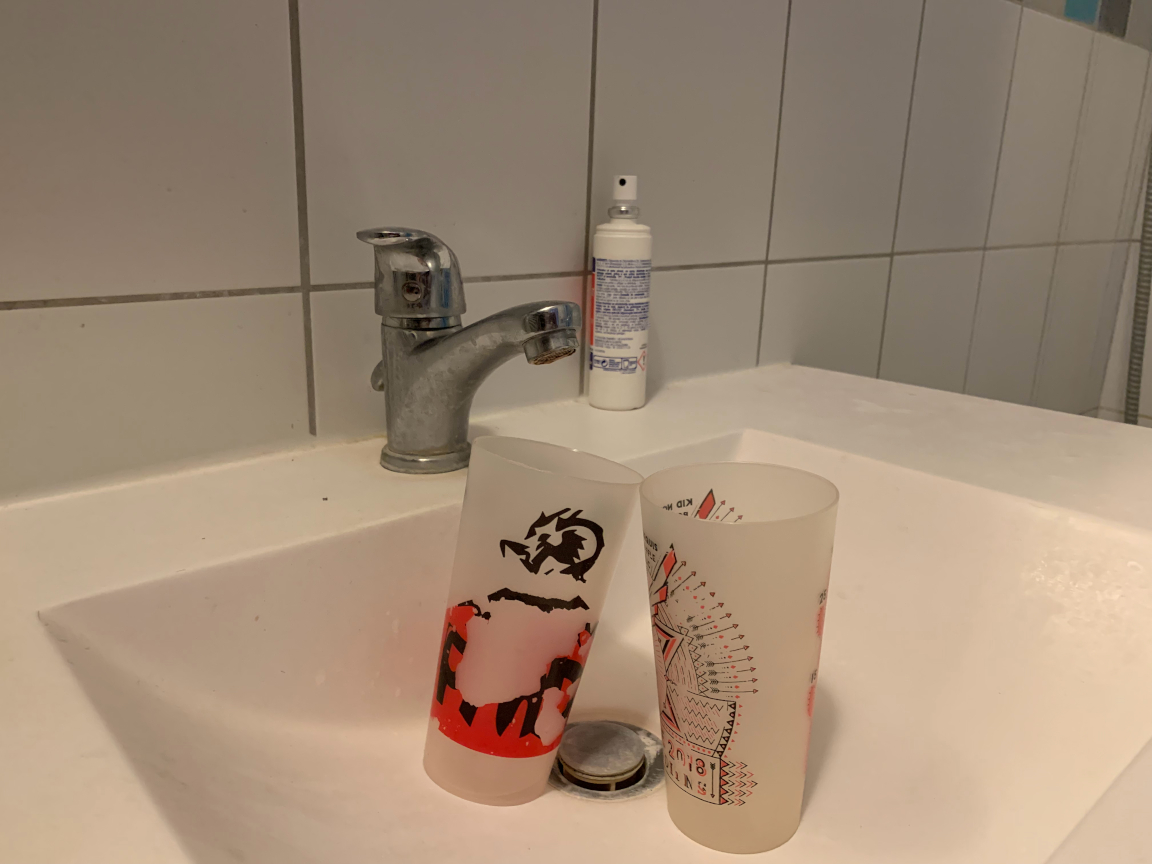ecocup: (423, 435, 642, 807), (641, 463, 838, 852)
